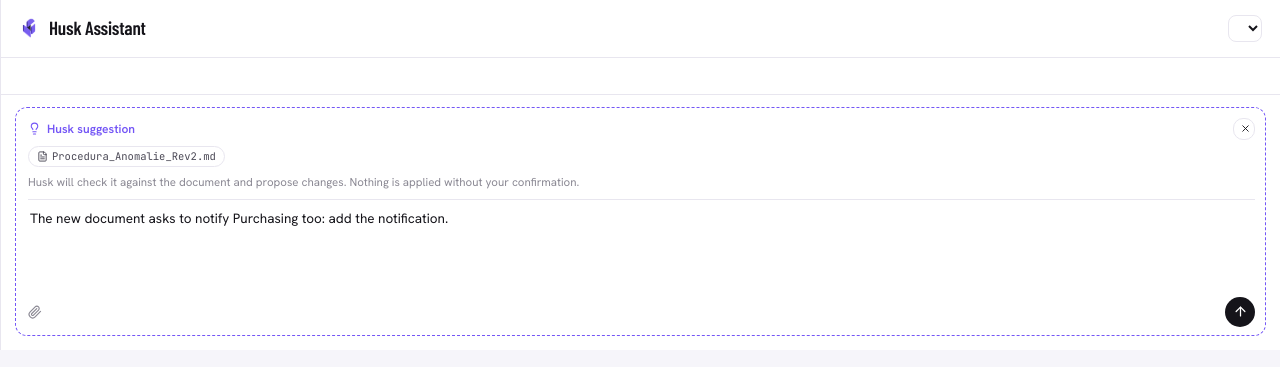
chat suggestion mode › pre-fills Husk's request, marks it, and becomes a user request when edited
Expected: the text "Husk suggestion" is shown, [47,120,135,138]
Expected: the text "Nothing is applied without your confirmation" is shown, [28,174,579,189]
Replace the text in the text box showing "notify Purchasing too" with "Notify Purchasing, please": (642, 248) [28,206,1255,290]
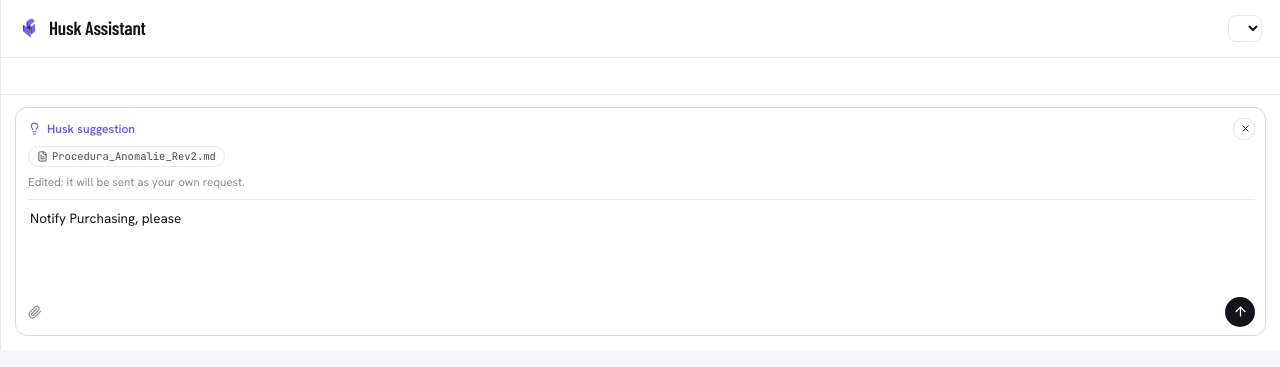
Expected: the button named "Send" is shown, [1225,296,1255,326]
Expected: the text "Edited: it will be sent as your own request." is shown, [28,174,245,189]
